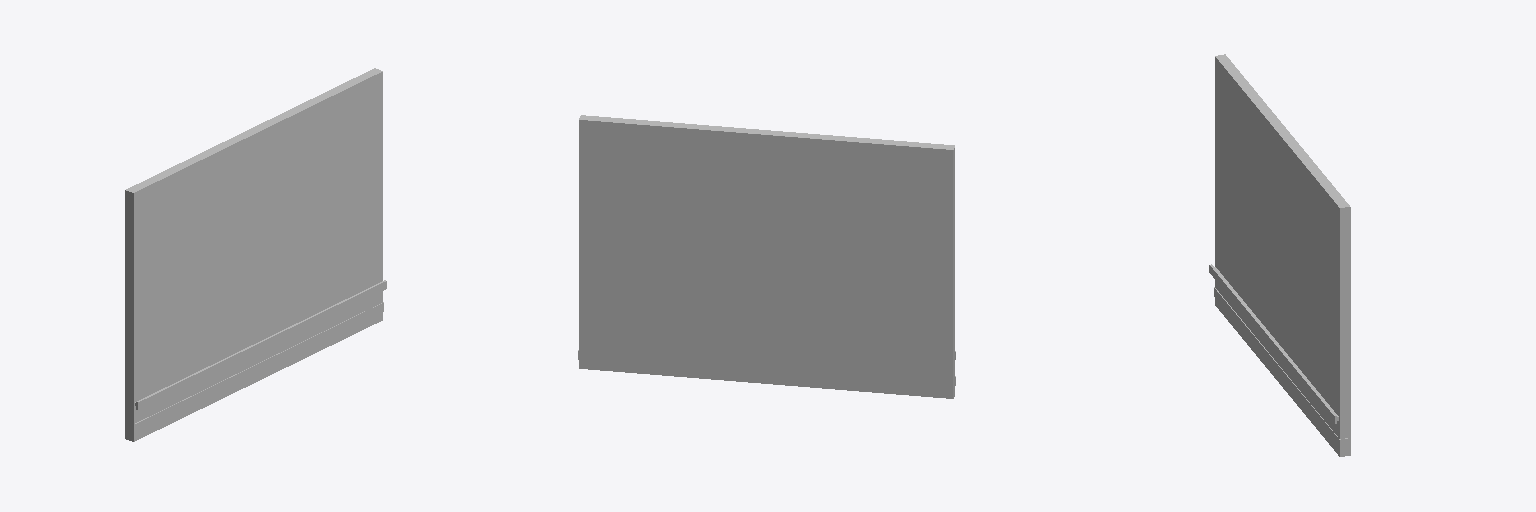
File: Diagonal_wall1.obj
3 renders of one model, left to right at view 1: azimuth 30°, elevation 25°; view 2: azimuth 150°, elevation 25°; view 3: azimuth 270°, elevation 25°, orthographic.
Visible parts, largest first — view 1: Part4, Part1, Part2; view 2: Part4; view 3: Part4, Part1, Part2.
Boxes of the visible parts, x1,y1,x2,y2 form: Part4: [125, 68, 382, 441]; Part1: [126, 302, 383, 433]; Part2: [136, 280, 386, 409]; Part4: [579, 115, 954, 398]; Part4: [1215, 54, 1350, 456]; Part1: [1214, 287, 1349, 448]; Part2: [1209, 264, 1336, 423].
Bounding box in the file's own units: 32.47 × 24.43 × 12.54.